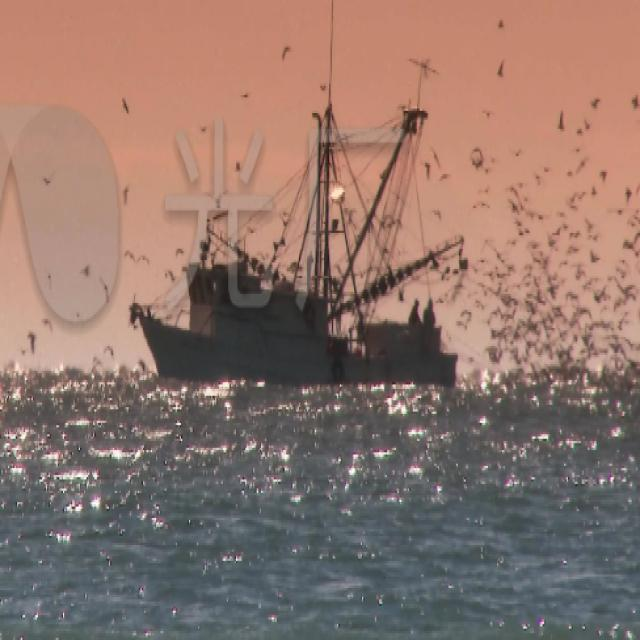fishing boat: (126, 91, 458, 388)
